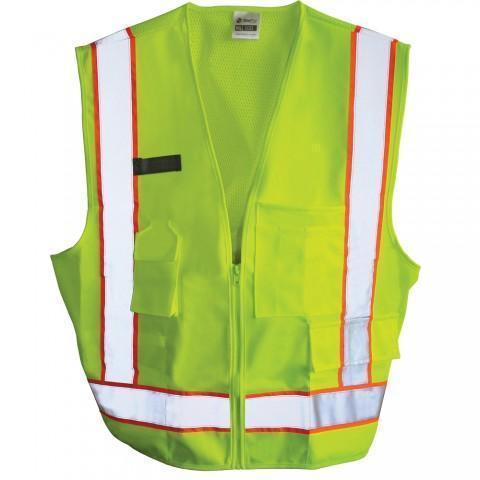Glass: (37, 0, 412, 468)
